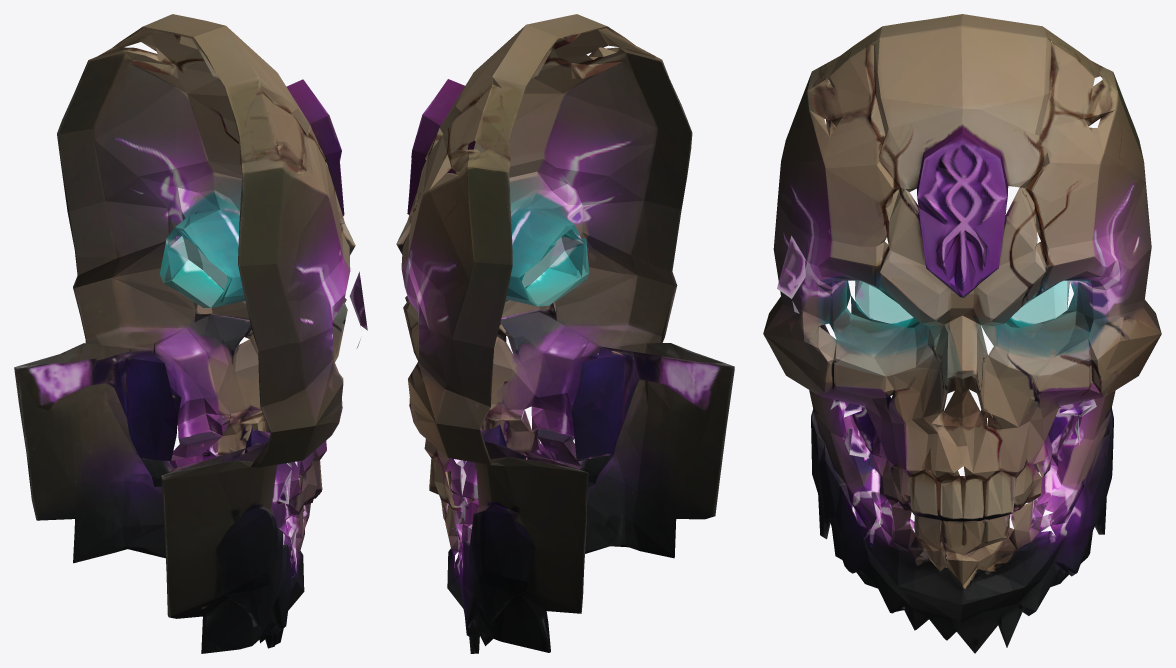
File: Mask_Undead.glb
The picture shows the model from 3 angles, left to right: view 1: azimuth 30°, elevation 25°; view 2: azimuth 150°, elevation 25°; view 3: azimuth 270°, elevation 25°; orthographic projection. The views are drawn at different scales.
Parts seen in each view (by area): view 1: tripo_node_c6d649f3-4d89-46cd-9541-73958cae8c91; view 2: tripo_node_c6d649f3-4d89-46cd-9541-73958cae8c91; view 3: tripo_node_c6d649f3-4d89-46cd-9541-73958cae8c91.
Part boxes in pixels (box(x1,y1,x2,y2)): tripo_node_c6d649f3-4d89-46cd-9541-73958cae8c91: box(14, 14, 367, 653); tripo_node_c6d649f3-4d89-46cd-9541-73958cae8c91: box(396, 14, 734, 653); tripo_node_c6d649f3-4d89-46cd-9541-73958cae8c91: box(763, 14, 1161, 653).
Size of the model in its own units: 0.4323 by 1 by 0.5921.
1 material, 1 textured.
